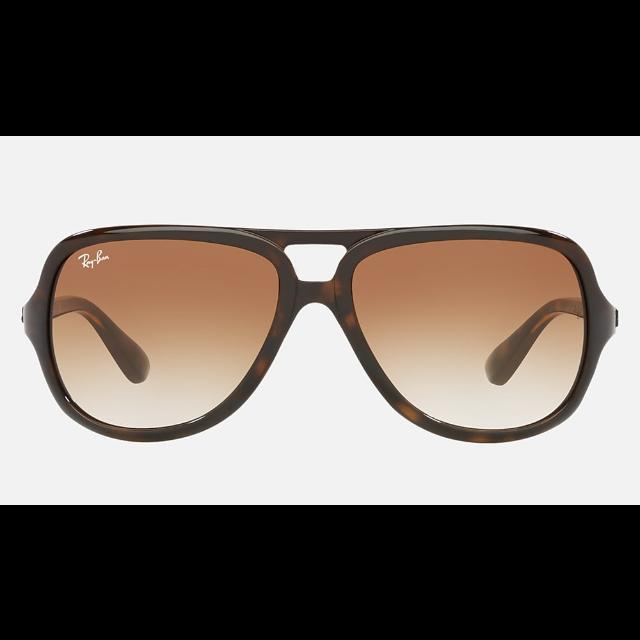Sunglasses: (19, 221, 618, 443)
